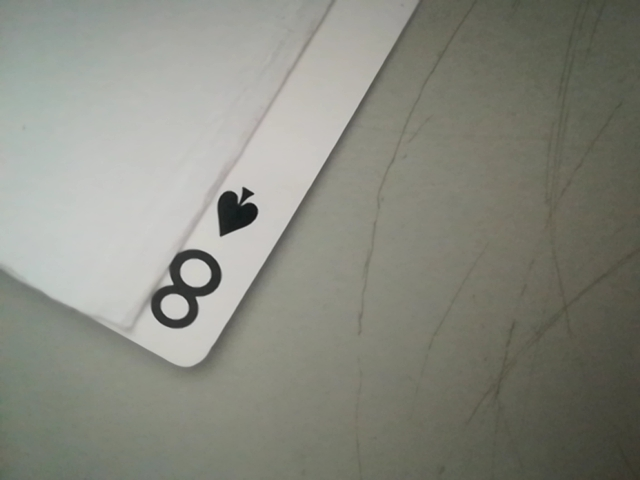ht 8: (134, 180, 271, 355)
